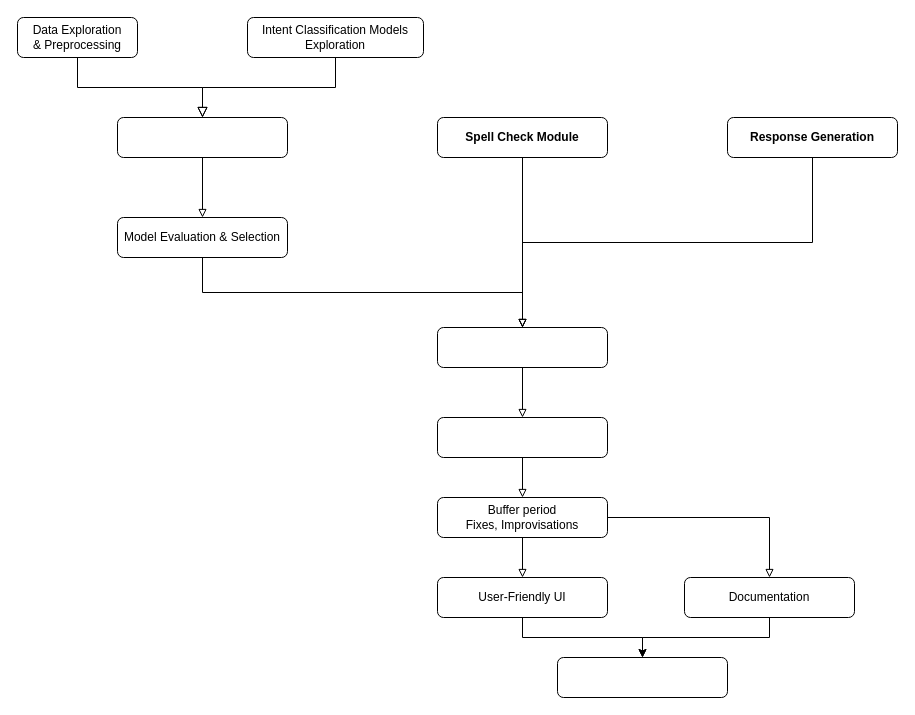
The diagram is 915 pixels wide and 715 high, and some of its shapes have lost their labels. Each missing label, with the centre of its shape:
End: point 642,677
Integration & Chatbot Interface: point 522,347
Intent Classification Models Development: point 202,137
Testing: point 522,437
